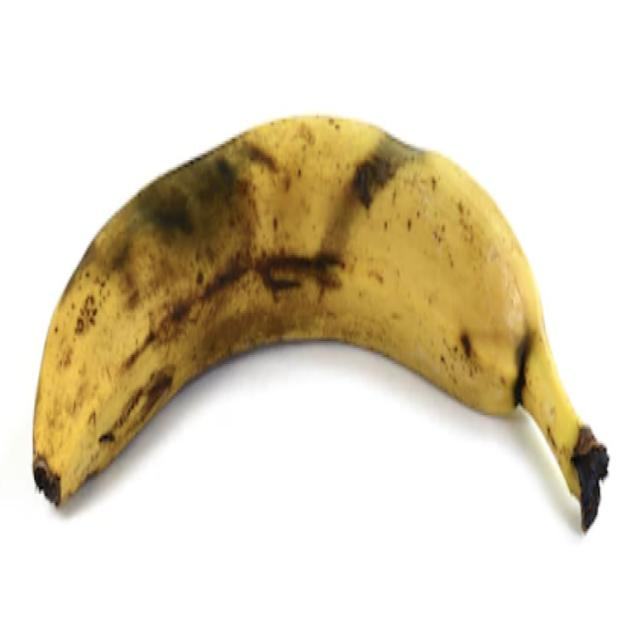rotten-banana: (31, 111, 610, 533)
